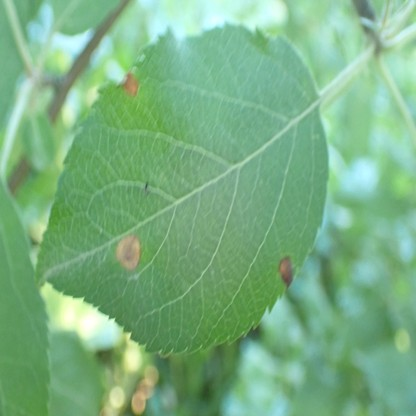frogeye_leaf_spot: (115, 235, 141, 268), (279, 256, 293, 286), (123, 75, 139, 98)
